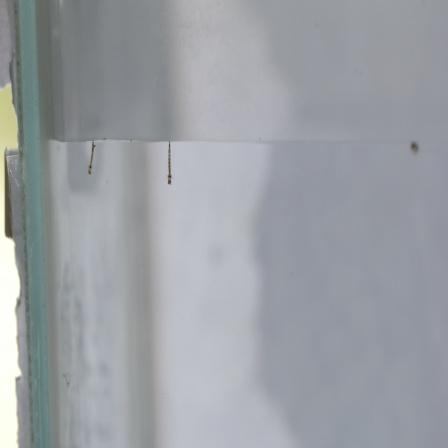Jentik-Nyamuk: (162, 140, 179, 189), (83, 139, 100, 178)
